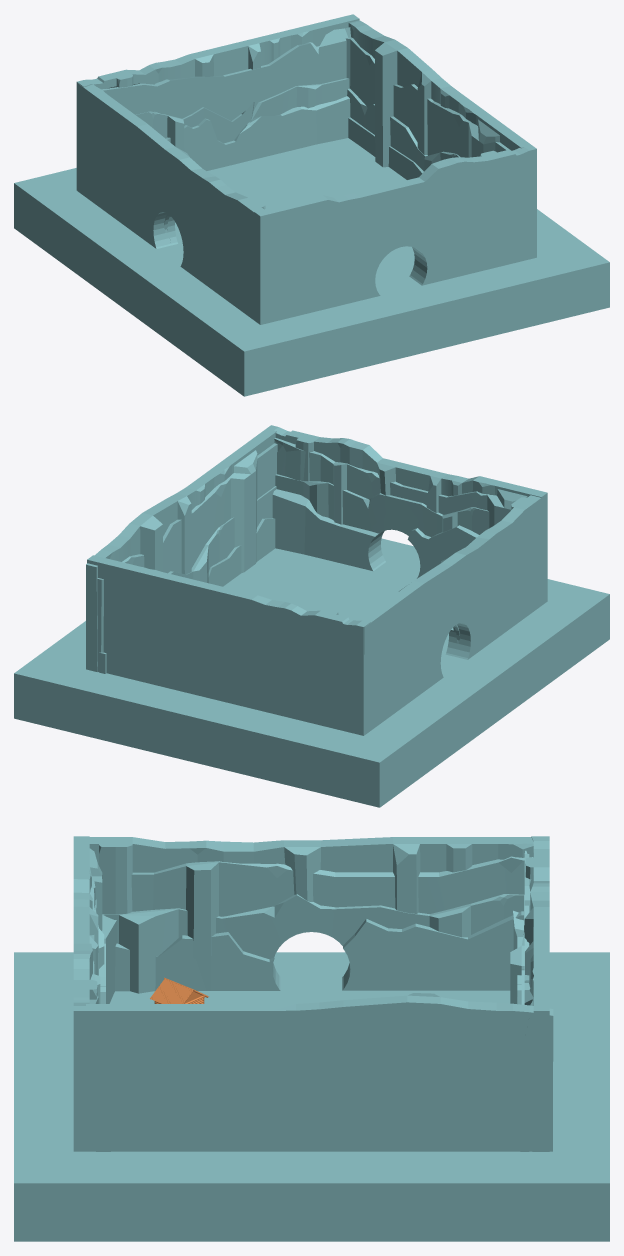
Rendered from Logging Chunk.fbx.
The picture shows the model from 3 angles, top to bottom: view 1: azimuth 30°, elevation 25°; view 2: azimuth 150°, elevation 25°; view 3: azimuth 270°, elevation 25°; orthographic projection. The views are drawn at different scales.
Parts seen in each view (by area): view 1: Foundation.001, Border.008, Border.034, Border.047, Border.042, Border.009, Border.048, Border.037, Border.043, Border.036, Border.040; view 2: Foundation.001, Border.048, Border.034, Border.037, Border.042, Border.006, Border.008, Border.007, Border.005, Border.036, Border.040; view 3: Foundation.001, Border.042, Border.039, Border.035, Border.034, Border.004, Border.008, Border.048, Border.006, Border.007, Border.047, Border.043 (+2 smaller).
Boxes of the visible parts, left/top/right/bottom form: Foundation.001: left=14, top=138, right=609, bottom=396; Border.008: left=253, top=144, right=536, bottom=324; Border.034: left=77, top=83, right=265, bottom=318; Border.047: left=101, top=27, right=350, bottom=120; Border.042: left=348, top=20, right=529, bottom=167; Border.009: left=166, top=96, right=350, bottom=170; Border.048: left=76, top=14, right=359, bottom=190; Border.037: left=345, top=37, right=511, bottom=157; Border.043: left=136, top=78, right=349, bottom=151; Border.036: left=347, top=88, right=460, bottom=171; Border.040: left=348, top=117, right=423, bottom=179; Foundation.001: left=14, top=538, right=609, bottom=807; Border.048: left=87, top=555, right=370, bottom=735; Border.034: left=360, top=495, right=541, bottom=734; Border.037: left=97, top=443, right=277, bottom=671; Border.042: left=86, top=430, right=276, bottom=671; Border.006: left=272, top=489, right=479, bottom=578; Border.008: left=264, top=425, right=547, bottom=605; Border.007: left=274, top=438, right=541, bottom=606; Border.005: left=275, top=474, right=489, bottom=568; Border.036: left=168, top=486, right=276, bottom=583; Border.040: left=99, top=518, right=275, bottom=673; Foundation.001: left=14, top=952, right=609, bottom=1241; Border.042: left=86, top=993, right=553, bottom=1151; Border.039: left=115, top=911, right=523, bottom=991; Border.035: left=131, top=856, right=533, bottom=990; Border.034: left=89, top=837, right=533, bottom=983; Border.004: left=103, top=894, right=523, bottom=993; Border.008: left=73, top=836, right=98, bottom=1151; Border.048: left=524, top=836, right=549, bottom=1151; Border.006: left=99, top=914, right=116, bottom=1151; Border.007: left=89, top=848, right=102, bottom=1151; Border.047: left=524, top=850, right=533, bottom=1151; Border.043: left=510, top=894, right=524, bottom=1151.
Size of the model in its own units: 8649 by 3628 by 9427.
